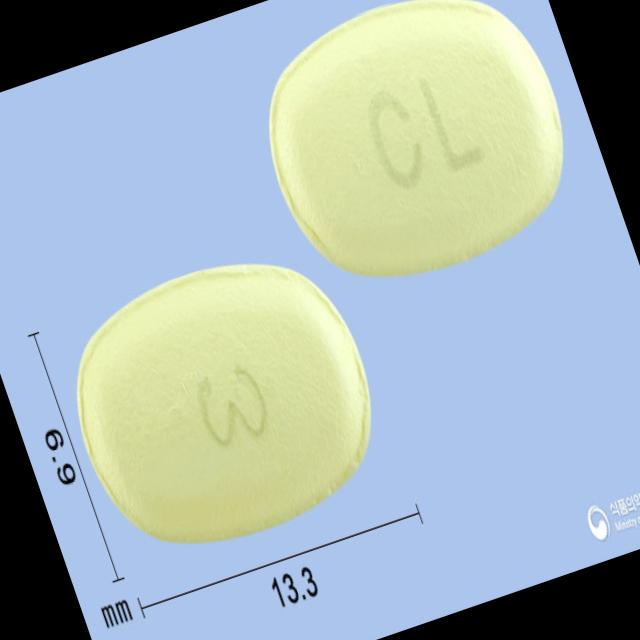Clamin: (38, 222, 408, 578), (230, 0, 599, 310)
